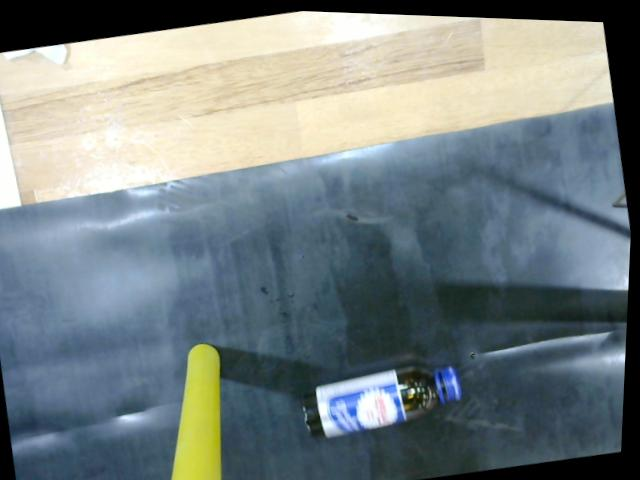glass: (298, 356, 468, 446)
